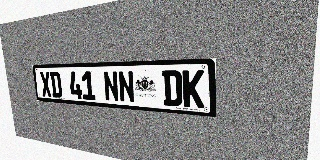1: (80, 71, 96, 100)
4: (68, 71, 83, 99)
D: (162, 70, 182, 107), (49, 72, 63, 98)
K: (182, 70, 204, 108)
N: (118, 71, 135, 103), (103, 71, 119, 102)
X: (39, 72, 52, 97)
